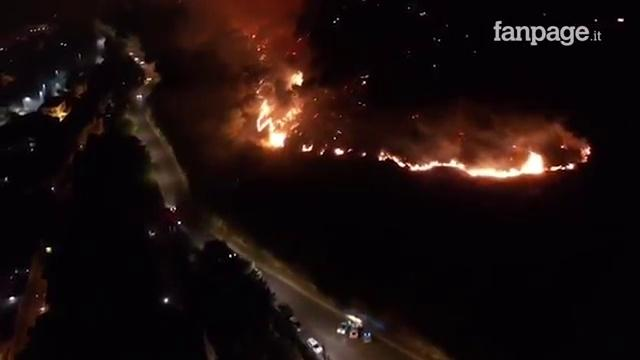fire: (472, 165, 549, 176), (268, 129, 286, 149), (260, 101, 269, 115)
